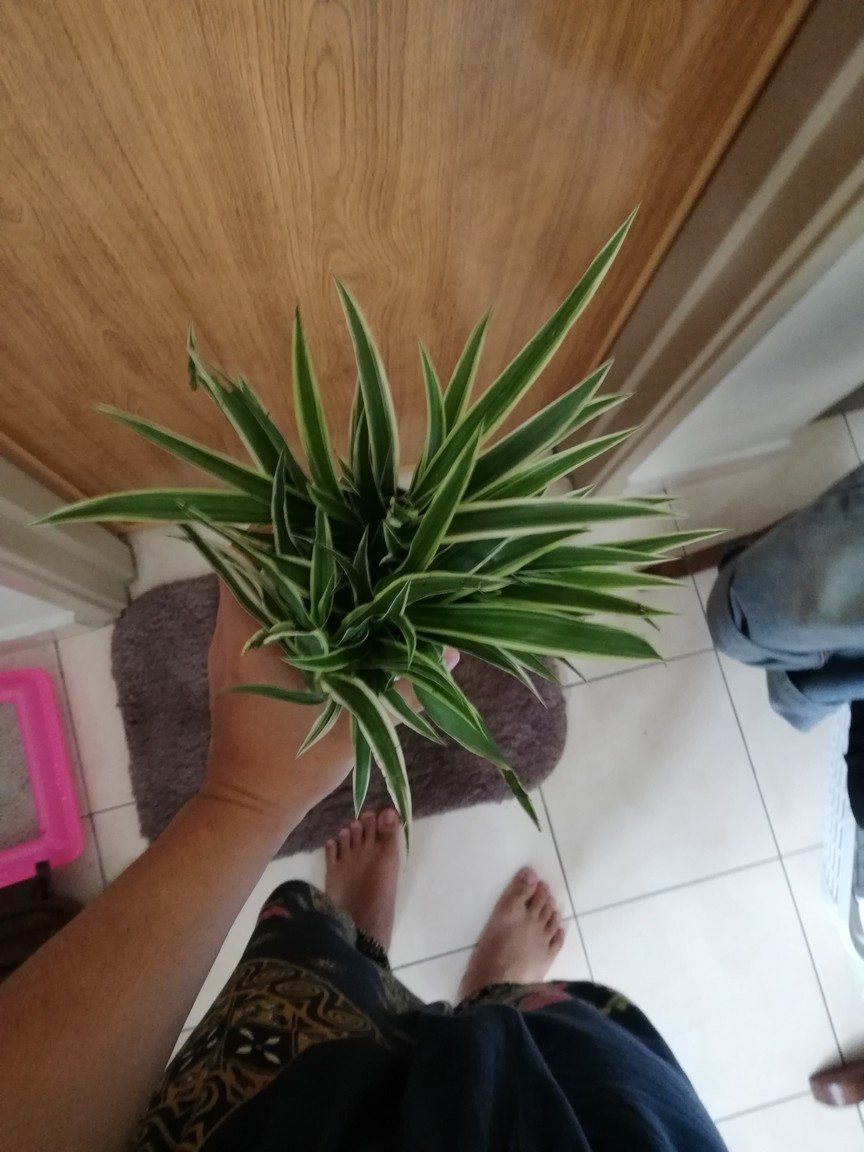daun: (510, 200, 644, 358), (88, 401, 216, 473), (425, 414, 490, 541), (331, 271, 391, 408), (20, 488, 234, 525), (292, 294, 334, 455), (364, 731, 412, 868), (443, 295, 498, 414), (561, 416, 653, 474), (601, 588, 688, 637), (416, 334, 448, 449), (392, 688, 443, 754), (638, 527, 736, 559), (220, 681, 314, 713), (501, 656, 544, 720), (596, 500, 688, 529), (504, 766, 542, 834), (616, 569, 692, 603), (593, 546, 680, 573), (348, 729, 370, 827), (568, 354, 619, 395), (296, 701, 328, 759), (277, 652, 353, 676), (525, 647, 562, 694), (551, 650, 590, 692), (391, 614, 420, 669), (270, 445, 286, 540), (590, 390, 640, 416), (232, 369, 261, 411), (381, 519, 412, 551), (620, 493, 686, 507), (355, 523, 375, 567), (556, 482, 597, 503)
